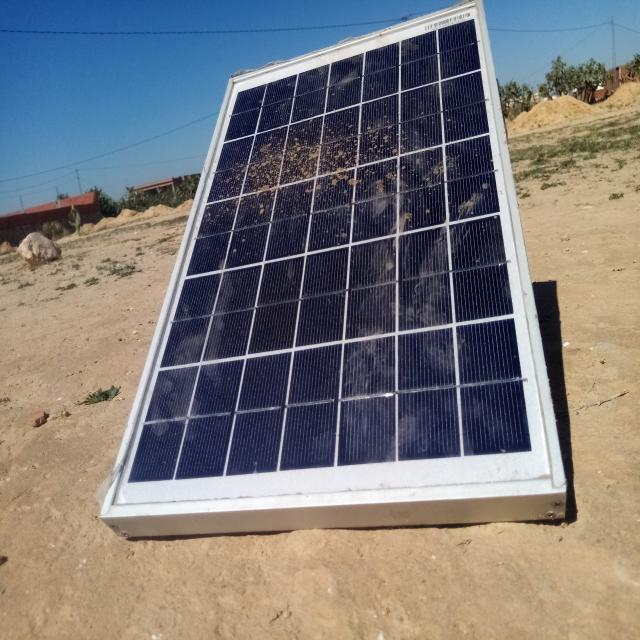faulty: (105, 2, 563, 511)
